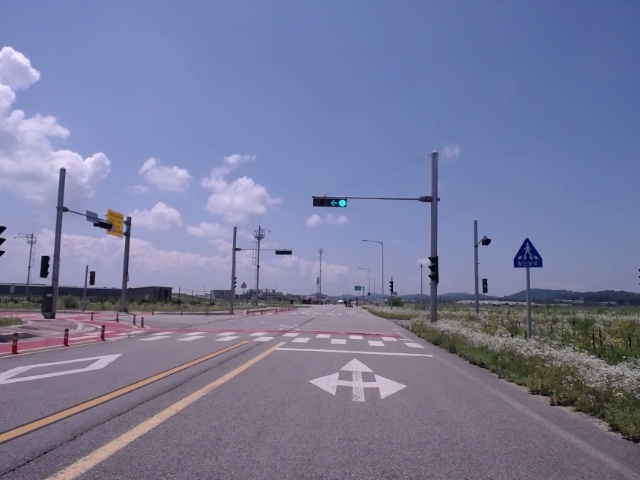all_green_4: (311, 196, 349, 207)
